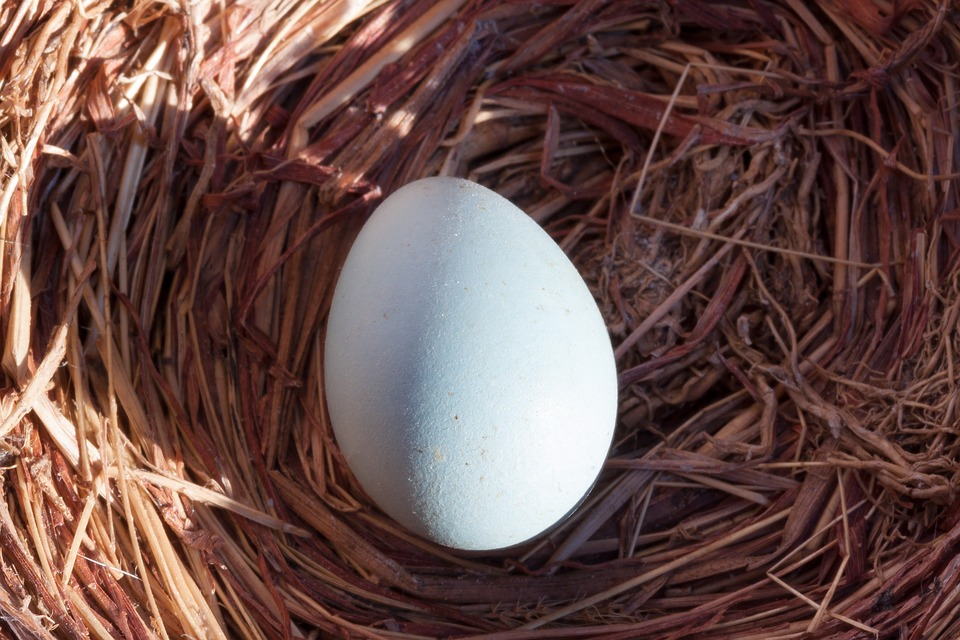Egg: (305, 138, 633, 569)
